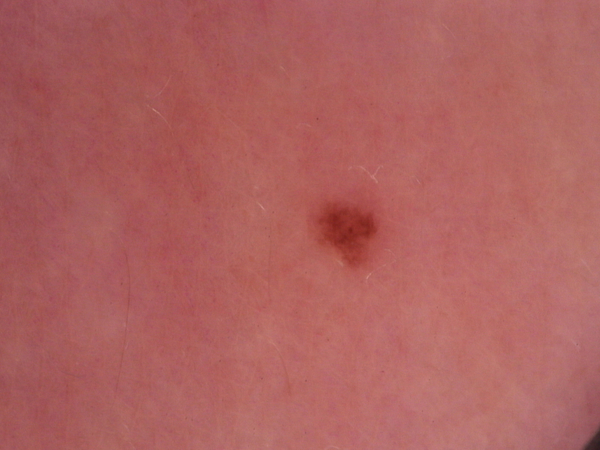Detected Lesion: (305, 201, 391, 277)
